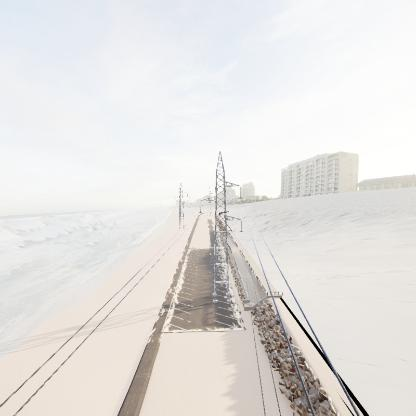tower: (197, 150, 243, 306)
